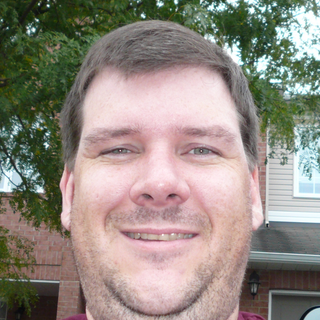eye: (92, 141, 143, 164), (180, 141, 230, 163)
